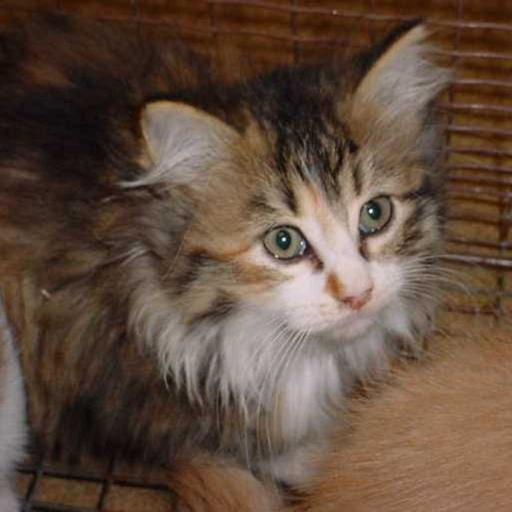cat: (0, 17, 452, 491), (164, 311, 512, 512)
